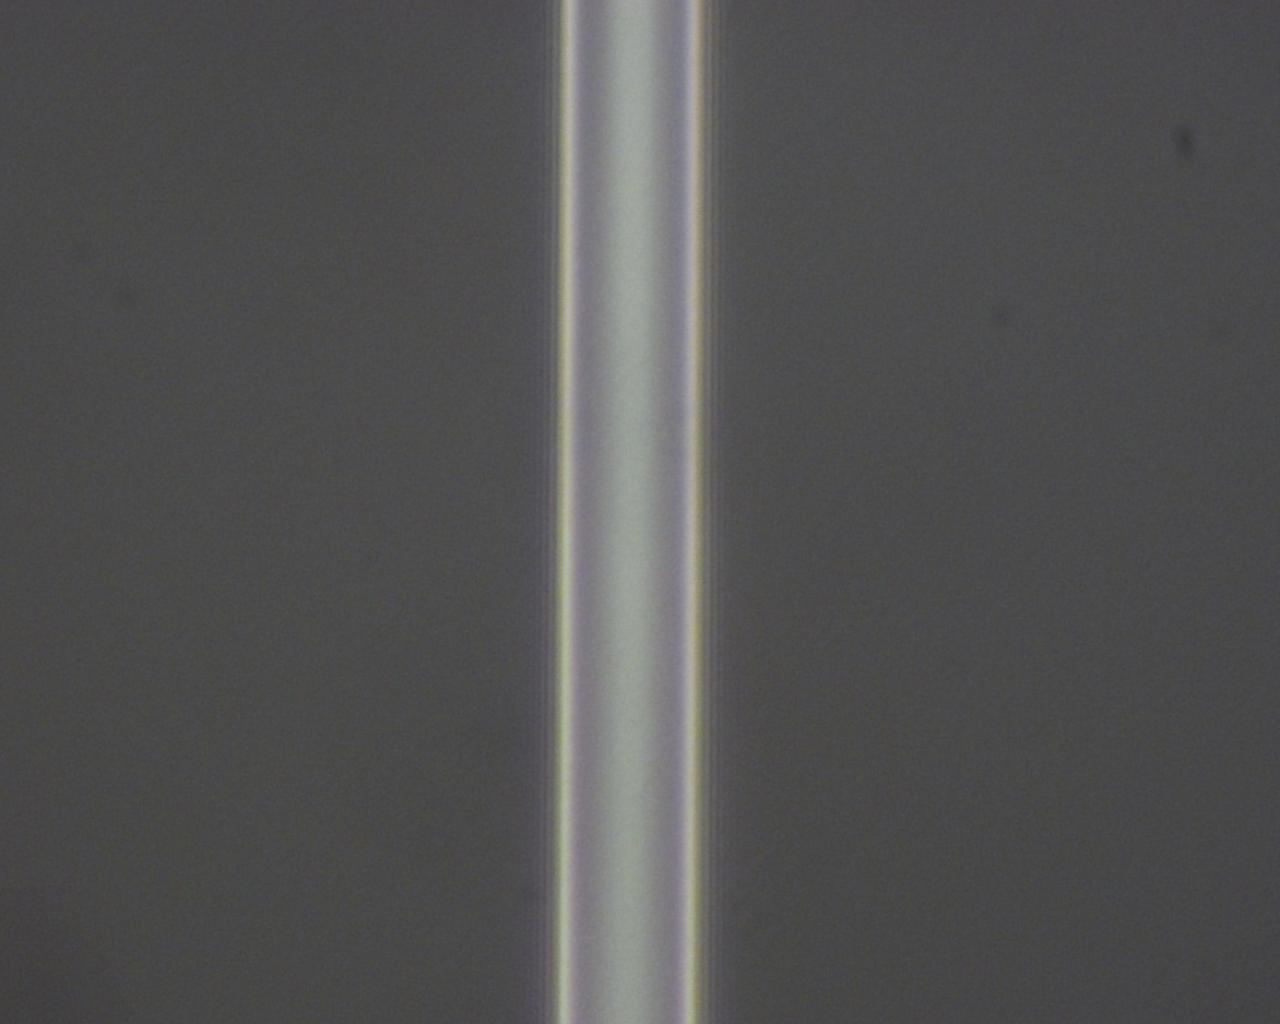fiber: (0, 10, 689, 491), (843, 491, 1095, 1024), (779, 233, 1102, 491), (492, 491, 613, 1024)
